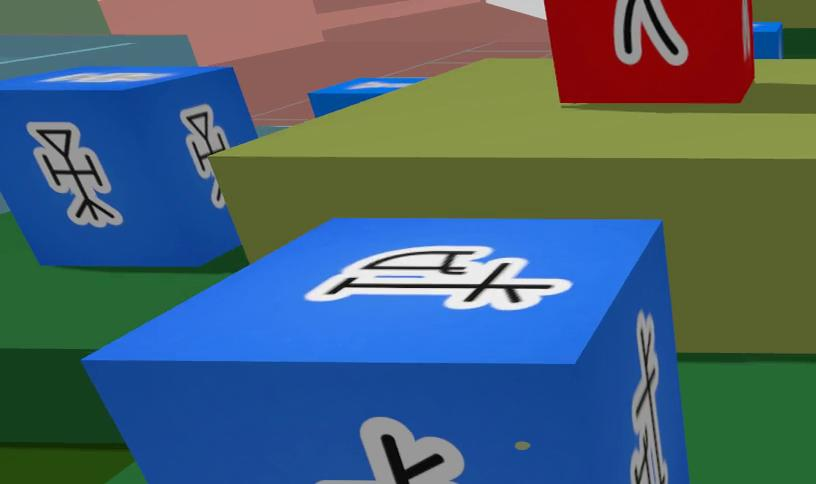KFS_FAKE: (544, 1, 758, 106), (614, 0, 688, 65)
KFS_REAL: (78, 215, 694, 484), (0, 63, 258, 267), (306, 246, 572, 310), (27, 122, 121, 227), (316, 417, 463, 484), (631, 310, 668, 484), (180, 104, 229, 208), (307, 77, 428, 119), (751, 19, 785, 59)
